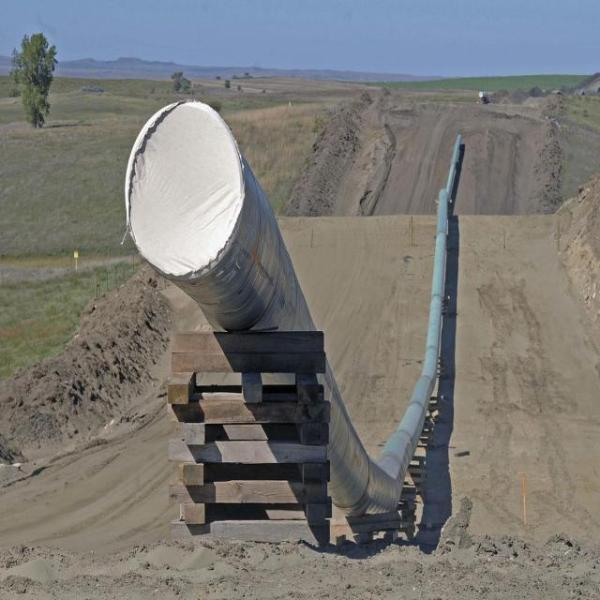no leak: (163, 130, 276, 268)
